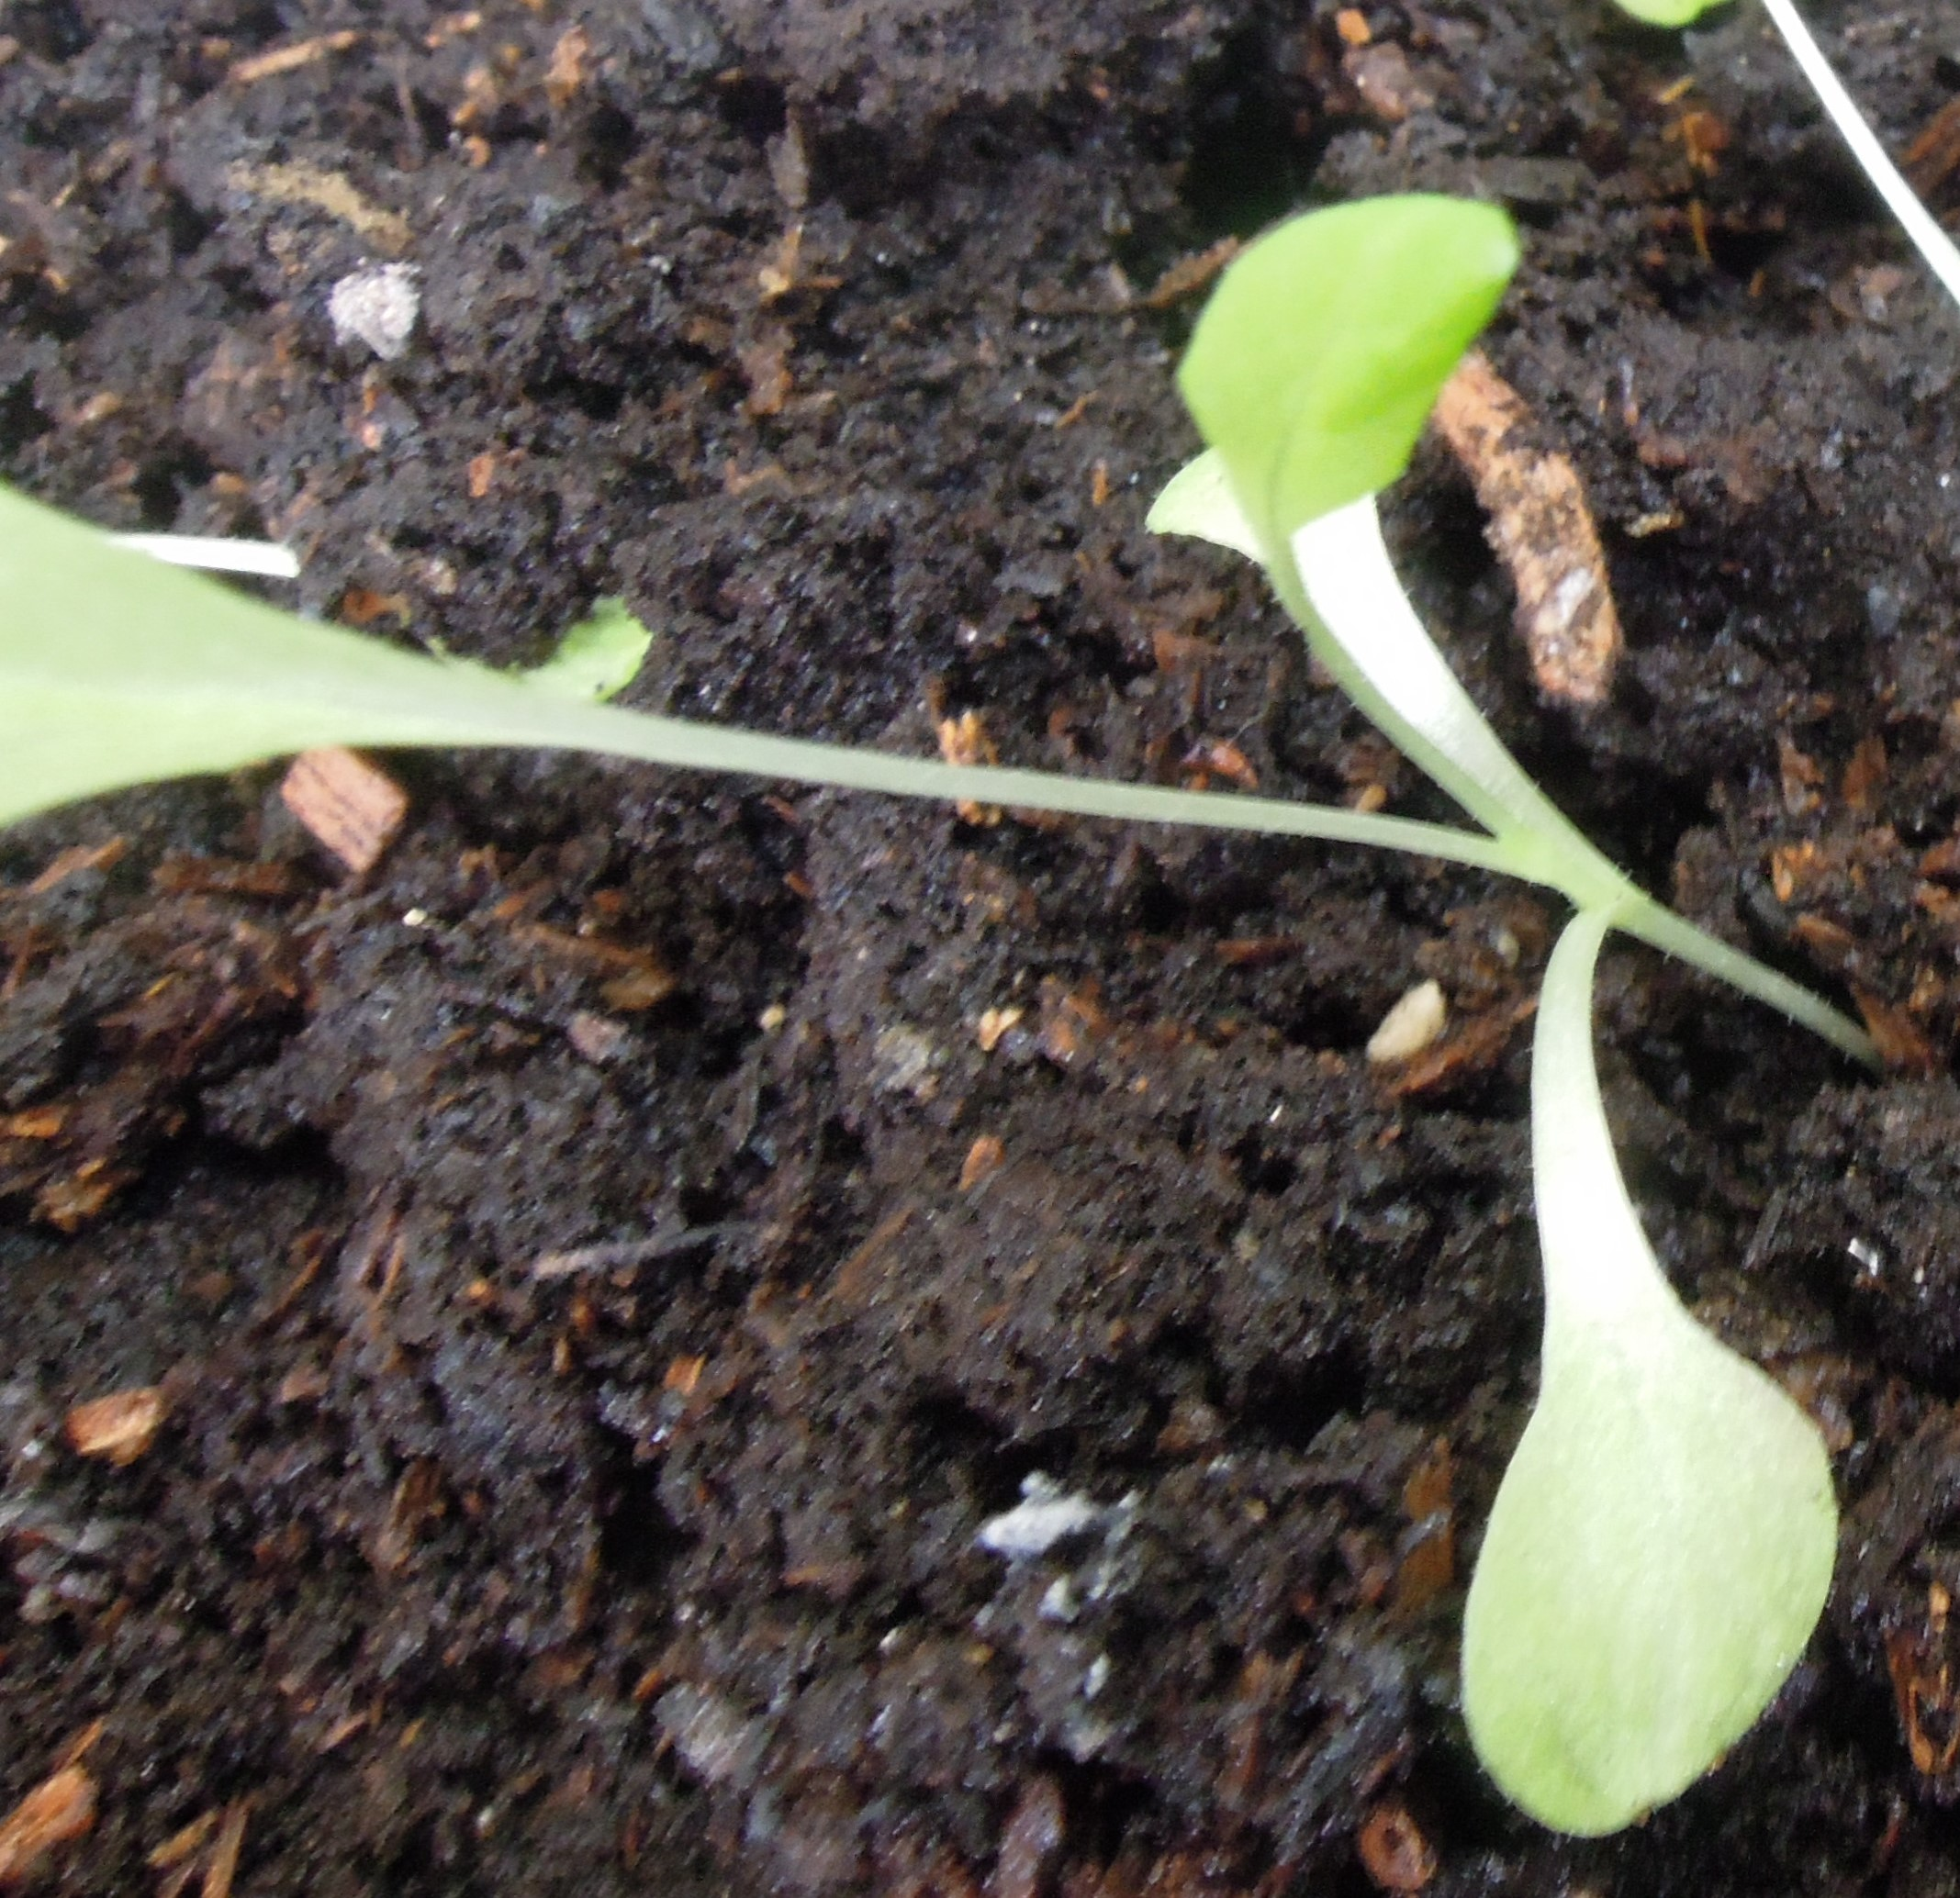week2: (1398, 852, 1913, 1865), (1052, 182, 1738, 794)
